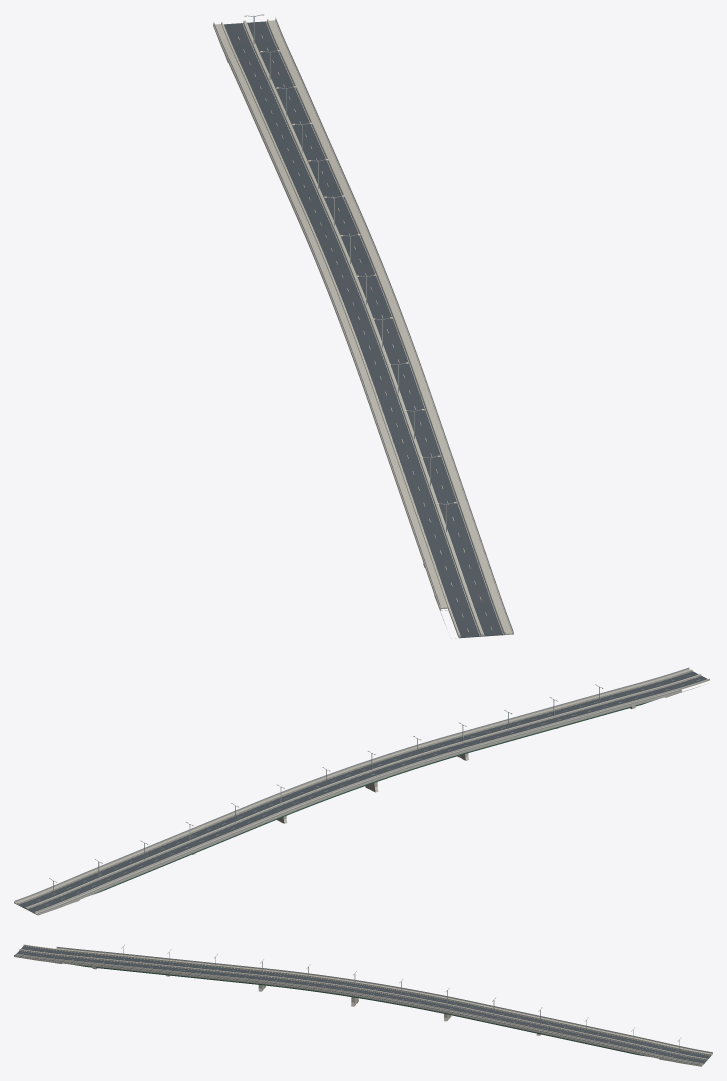
Rendered from pont-dubuc-near.glb.
The picture shows the model from 3 angles, top to bottom: view 1: azimuth 30°, elevation 25°; view 2: azimuth 150°, elevation 25°; view 3: azimuth 270°, elevation 25°; orthographic projection. The views are drawn at different scales.
Visible parts, largest first — view 1: pont-dubuc-0-asphalt, pont-dubuc-1-asphalt, pont-dubuc-2-asphalt, pont-dubuc-0-concrete, pont-dubuc-1-concrete, pont-dubuc-2-concrete, pont-dubuc-0-paint; view 2: pont-dubuc-2-asphalt, pont-dubuc-0-concrete, pont-dubuc-2-concrete, pont-dubuc-0-asphalt, pont-dubuc-1-concrete, pont-dubuc-1-asphalt, pont-dubuc-2-rail, pont-dubuc-0-rail, pont-dubuc-1-rail; view 3: pont-dubuc-0-concrete, pont-dubuc-2-concrete, pont-dubuc-1-concrete, pont-dubuc-0-asphalt, pont-dubuc-2-asphalt, pont-dubuc-1-asphalt, pont-dubuc-2-rail, pont-dubuc-0-rail, pont-dubuc-1-rail, pont-dubuc-1-steel, pont-dubuc-0-steel, pont-dubuc-2-steel.
Part boxes in pixels (x1,y1,x2,y2): pont-dubuc-0-asphalt: [375, 385, 504, 637]; pont-dubuc-1-asphalt: [302, 200, 417, 388]; pont-dubuc-2-asphalt: [224, 21, 344, 203]; pont-dubuc-0-concrete: [364, 383, 513, 638]; pont-dubuc-1-concrete: [291, 198, 426, 390]; pont-dubuc-2-concrete: [213, 19, 353, 204]; pont-dubuc-0-paint: [374, 386, 503, 636]; pont-dubuc-2-asphalt: [18, 813, 255, 913]; pont-dubuc-0-concrete: [444, 669, 709, 760]; pont-dubuc-2-concrete: [14, 811, 260, 915]; pont-dubuc-0-asphalt: [447, 671, 707, 748]; pont-dubuc-1-concrete: [237, 738, 467, 824]; pont-dubuc-1-asphalt: [240, 740, 461, 821]; pont-dubuc-2-rail: [14, 803, 260, 913]; pont-dubuc-0-rail: [443, 667, 689, 749]; pont-dubuc-1-rail: [237, 736, 467, 822]; pont-dubuc-0-concrete: [14, 944, 274, 991]; pont-dubuc-2-concrete: [474, 1005, 712, 1066]; pont-dubuc-1-concrete: [264, 970, 485, 1021]; pont-dubuc-0-asphalt: [16, 946, 273, 980]; pont-dubuc-2-asphalt: [477, 1008, 710, 1064]; pont-dubuc-1-asphalt: [267, 973, 483, 1015]; pont-dubuc-2-rail: [474, 999, 712, 1065]; pont-dubuc-0-rail: [14, 945, 275, 982]; pont-dubuc-1-rail: [264, 965, 485, 1017]; pont-dubuc-1-steel: [264, 984, 474, 1020]; pont-dubuc-0-steel: [70, 964, 264, 985]; pont-dubuc-2-steel: [475, 1019, 649, 1056].
Bounding box in the file's own units: 206 × 24.46 × 497.
